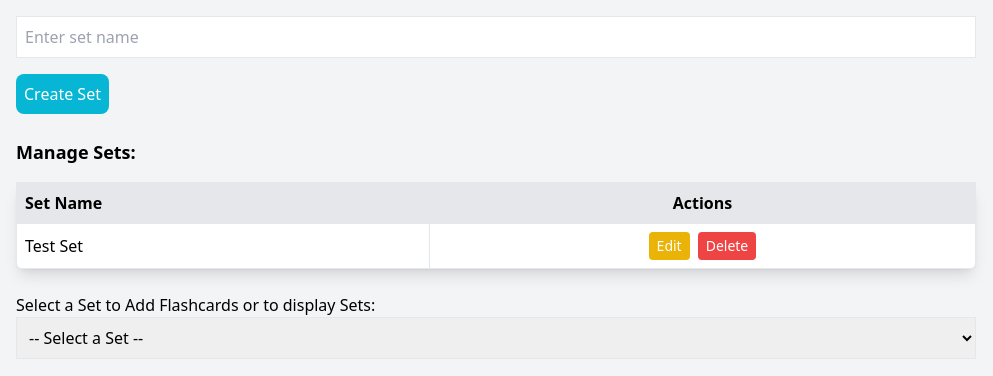
Scenario: FlashcardSetPage › deletes a set
Click the button "Delete" at (727, 246), box [698,232,756,260]
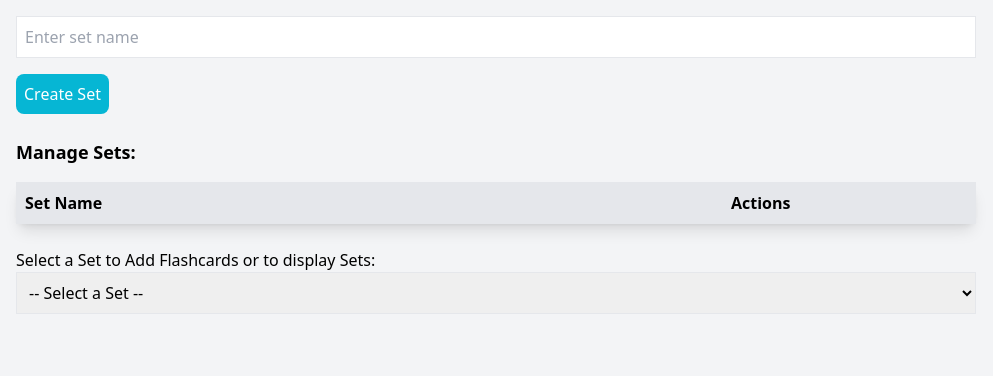
Now the text "Test Set" is gone
